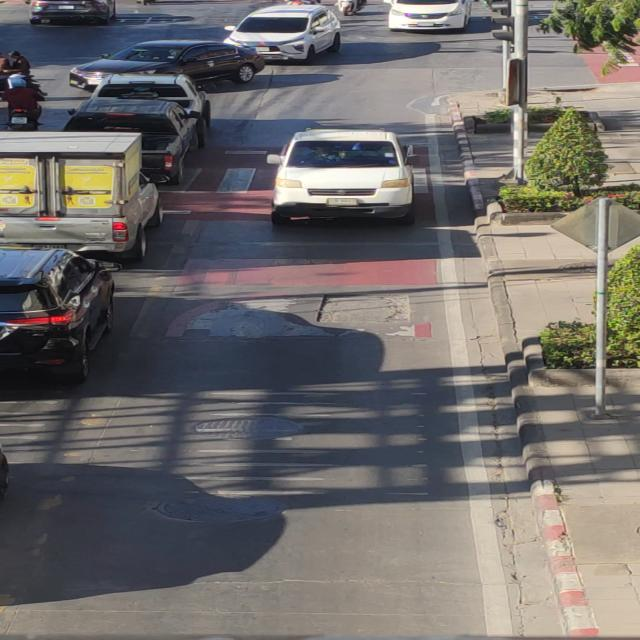car: (252, 124, 433, 227)
